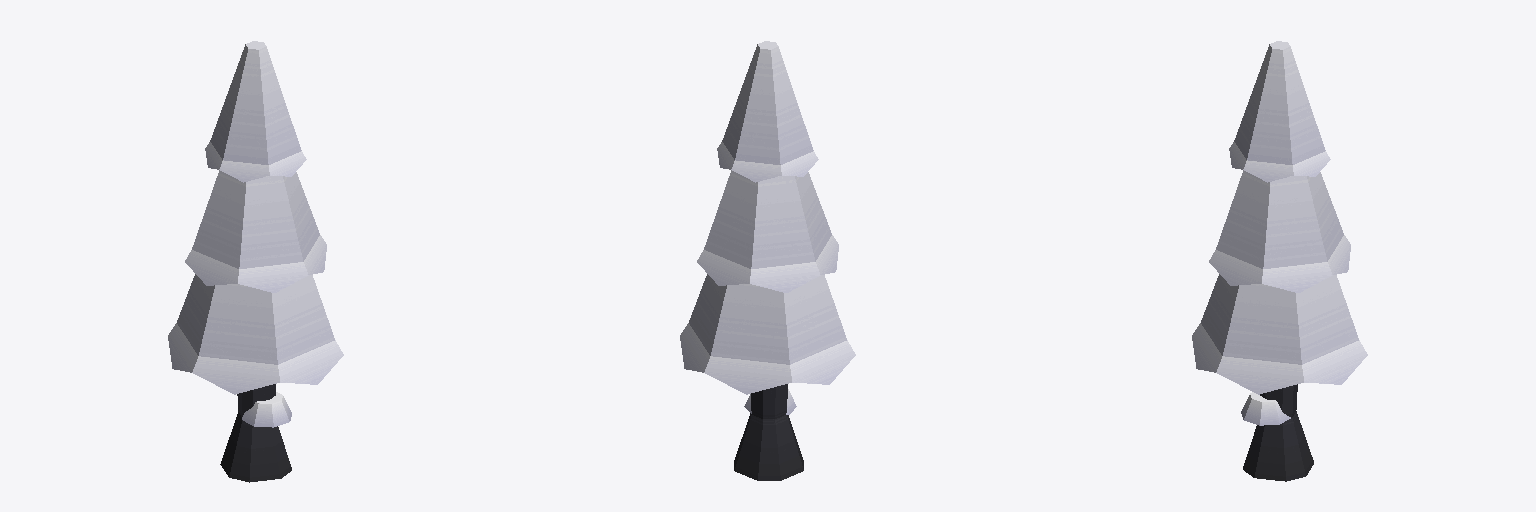
3 views of the same model, side by side, from view 1: azimuth 30°, elevation 25°; view 2: azimuth 150°, elevation 25°; view 3: azimuth 270°, elevation 25° (orthographic).
Visible parts, largest first — view 1: tree.066; view 2: tree.066; view 3: tree.066.
Part boxes in pixels (x1,y1,x2,y2): tree.066: (168,41,343,482); tree.066: (680,41,855,480); tree.066: (1192,41,1367,481).
Bounding box in the file's own units: 1.31 × 3.47 × 1.32.
1 materials, 1 textured.